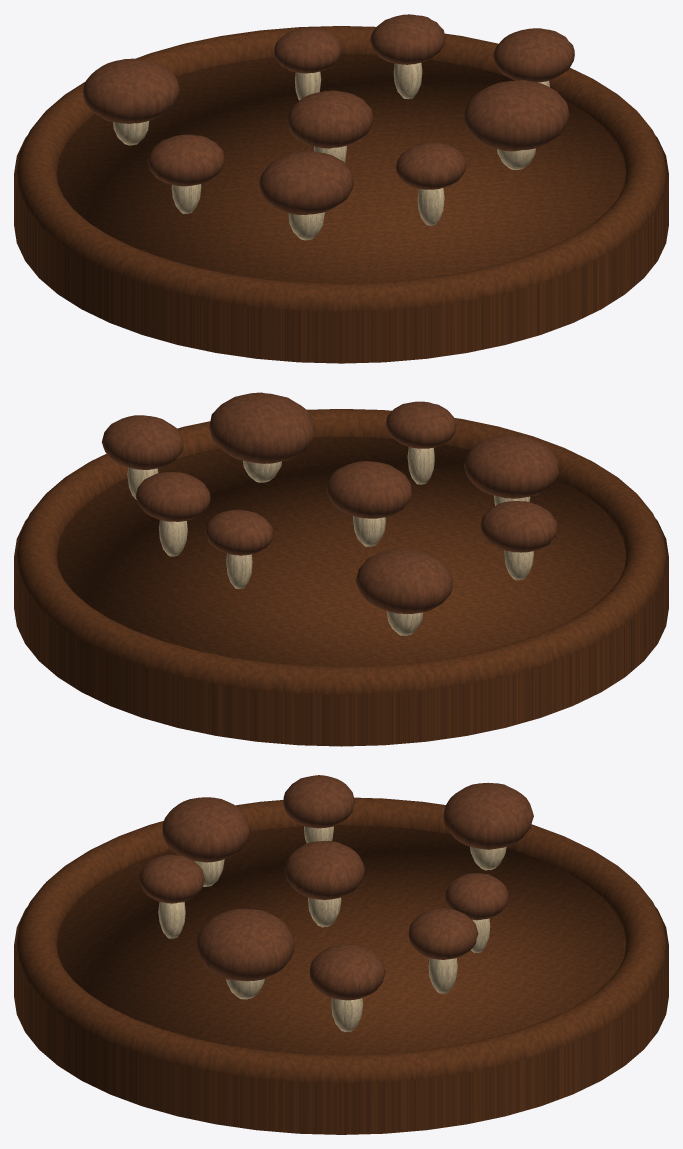
The model's file is hongos.glb.
The picture shows the model from 3 angles, top to bottom: view 1: azimuth 30°, elevation 25°; view 2: azimuth 150°, elevation 25°; view 3: azimuth 270°, elevation 25°; orthographic projection.
Parts seen in each view (by area): view 1: wood, mushroom, mushroomStem; view 2: wood, mushroom, mushroomStem; view 3: wood, mushroom, mushroomStem.
Boxes of the visible parts, x1,y1,x2,y2 form: wood: (14, 26, 668, 363); mushroom: (83, 14, 574, 214); mushroomStem: (113, 62, 549, 240); wood: (14, 409, 668, 746); mushroom: (102, 392, 558, 613); mushroomStem: (127, 447, 533, 635); wood: (14, 797, 668, 1134); mushroom: (139, 775, 533, 1000); mushroomStem: (158, 826, 506, 1032).
Size of the model in its own units: 0.58 by 0.1393 by 0.58.
3 materials, 3 textured.
